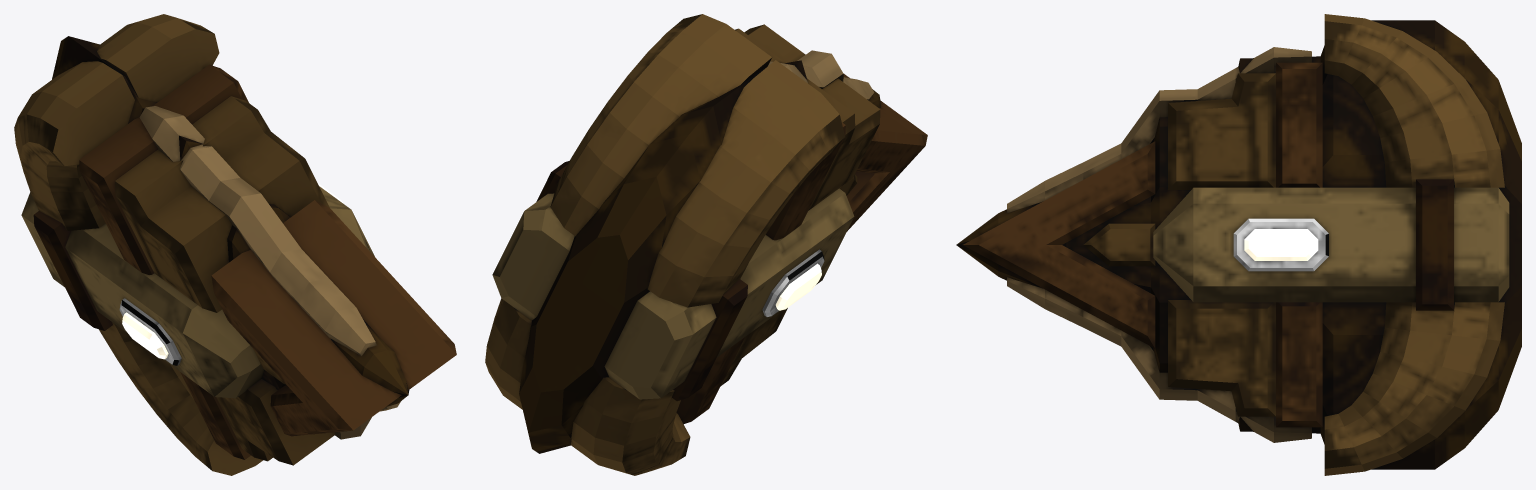
The model's file is newsh2-171-f3.glb.
3 renders of one model, left to right at view 1: azimuth 30°, elevation 25°; view 2: azimuth 150°, elevation 25°; view 3: azimuth 270°, elevation 25°, orthographic. The views are drawn at different scales.
Visible parts, largest first — view 1: newsh2-171-f3; view 2: newsh2-171-f3; view 3: newsh2-171-f3.
Boxes of the visible parts, x1,y1,x2,y2 form: newsh2-171-f3: [14, 14, 456, 475]; newsh2-171-f3: [485, 14, 927, 475]; newsh2-171-f3: [956, 14, 1521, 475].
Bounding box in the file's own units: 0.6899 × 0.9352 × 1.11.
Materials: 9 (9 with a texture image).
